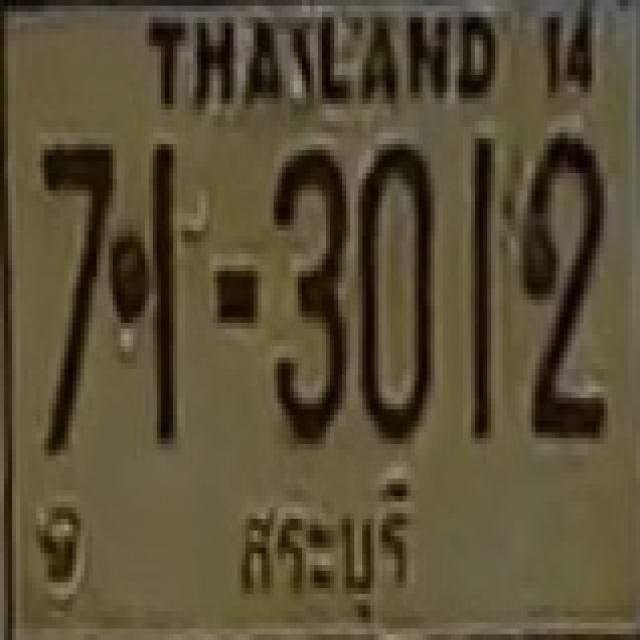0: (354, 138, 431, 438)
1: (146, 138, 190, 453), (469, 133, 493, 448)
2: (519, 128, 605, 429)
3: (270, 144, 342, 438)
7: (40, 138, 113, 464)
SRI: (231, 460, 431, 634)
